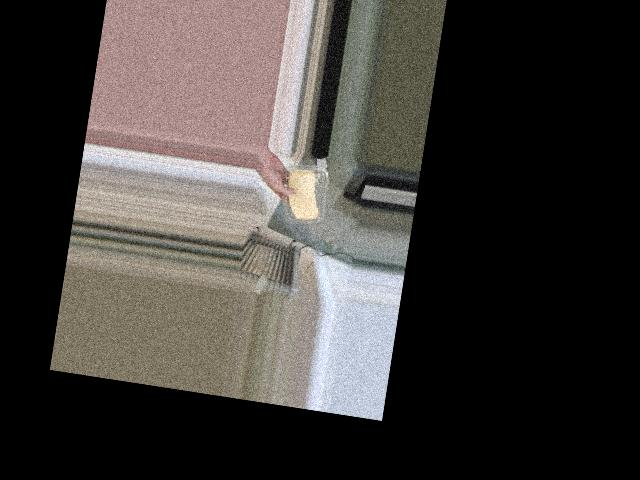cheese: (276, 162, 330, 229)
